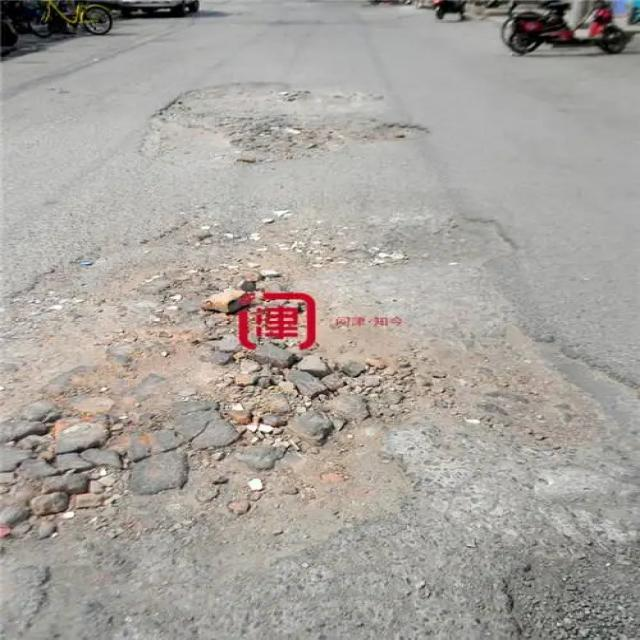Pothole: (11, 216, 564, 563), (155, 79, 429, 161)
